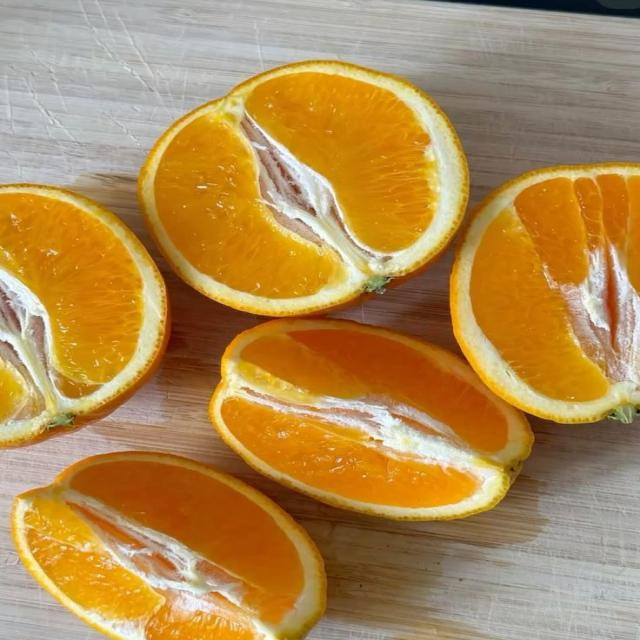orange: (140, 62, 467, 315), (211, 320, 532, 519), (13, 452, 325, 639), (452, 165, 639, 422), (0, 185, 166, 446)
